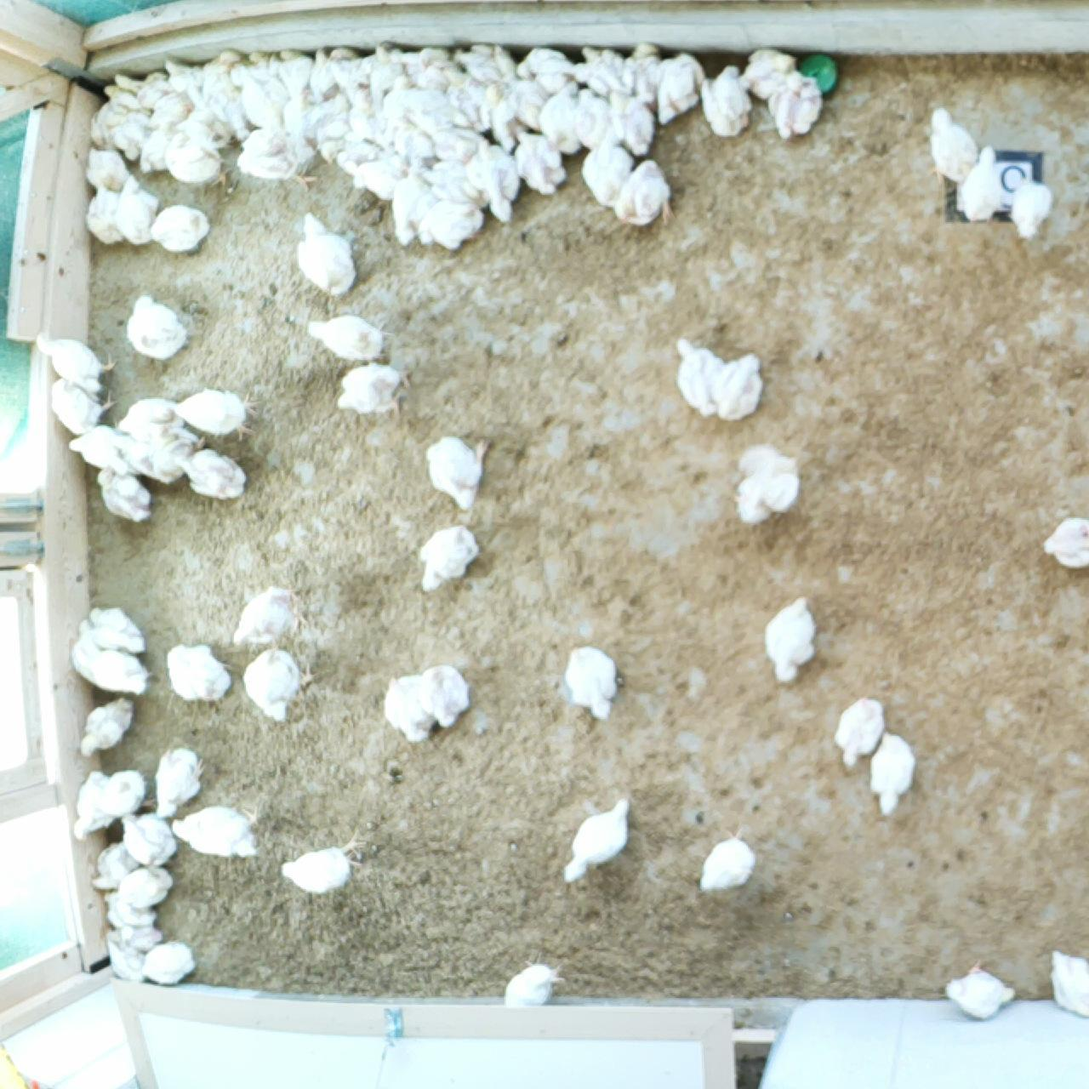chicken: (241, 632, 327, 724), (724, 439, 806, 532), (276, 825, 376, 898), (558, 789, 634, 885), (69, 618, 155, 701), (170, 799, 269, 865), (371, 664, 445, 750), (758, 589, 822, 687), (292, 208, 359, 301), (303, 303, 399, 366), (423, 428, 494, 511), (121, 417, 206, 485), (170, 383, 263, 445), (576, 124, 637, 215), (31, 326, 118, 389), (229, 583, 311, 649), (406, 657, 477, 733), (563, 639, 627, 722), (412, 521, 481, 596), (164, 638, 241, 704), (333, 358, 413, 421), (611, 157, 680, 230), (123, 289, 190, 364), (670, 333, 726, 420), (650, 48, 707, 133), (509, 122, 571, 200), (831, 695, 889, 777), (149, 741, 206, 822), (764, 66, 825, 141), (695, 825, 760, 895), (695, 62, 754, 139), (712, 347, 770, 424), (64, 418, 143, 474), (46, 374, 117, 436), (532, 77, 586, 157), (729, 42, 796, 105), (76, 692, 136, 762), (84, 600, 152, 658), (69, 767, 118, 847), (96, 465, 158, 528), (603, 86, 658, 157), (136, 935, 201, 995), (504, 947, 567, 1006), (617, 39, 668, 111), (117, 808, 178, 866), (149, 203, 215, 255), (569, 83, 617, 153), (115, 392, 188, 438), (167, 130, 228, 185), (115, 174, 160, 248), (512, 39, 576, 91), (94, 768, 155, 822), (485, 82, 525, 155), (98, 936, 154, 987), (88, 838, 136, 896), (82, 143, 137, 193), (507, 70, 550, 133), (86, 181, 126, 248), (120, 865, 177, 912), (576, 42, 626, 90), (138, 124, 178, 175), (101, 891, 158, 926), (143, 93, 195, 130), (112, 69, 170, 102), (102, 919, 165, 946)
